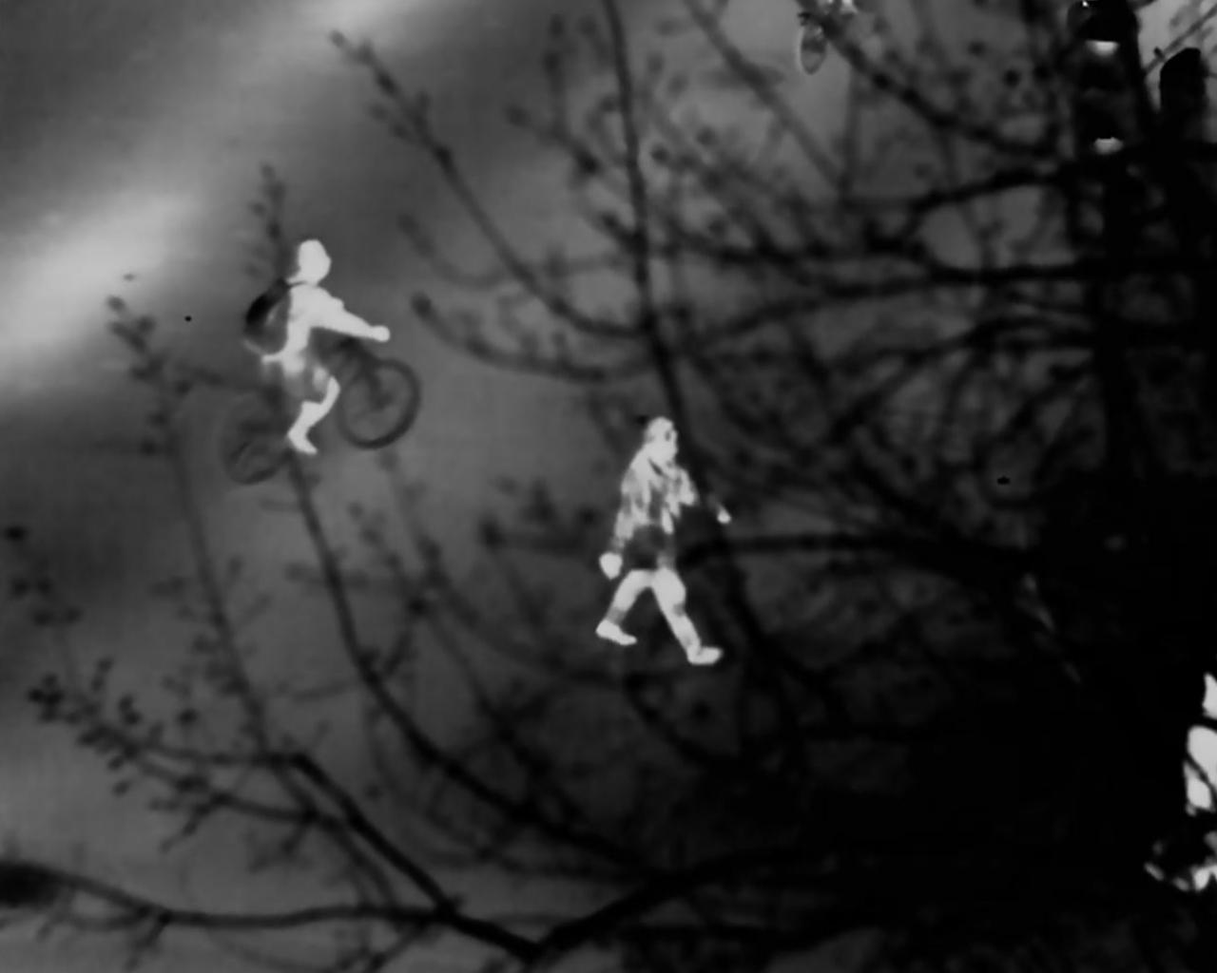person: (590, 414, 731, 668), (250, 237, 386, 449)
